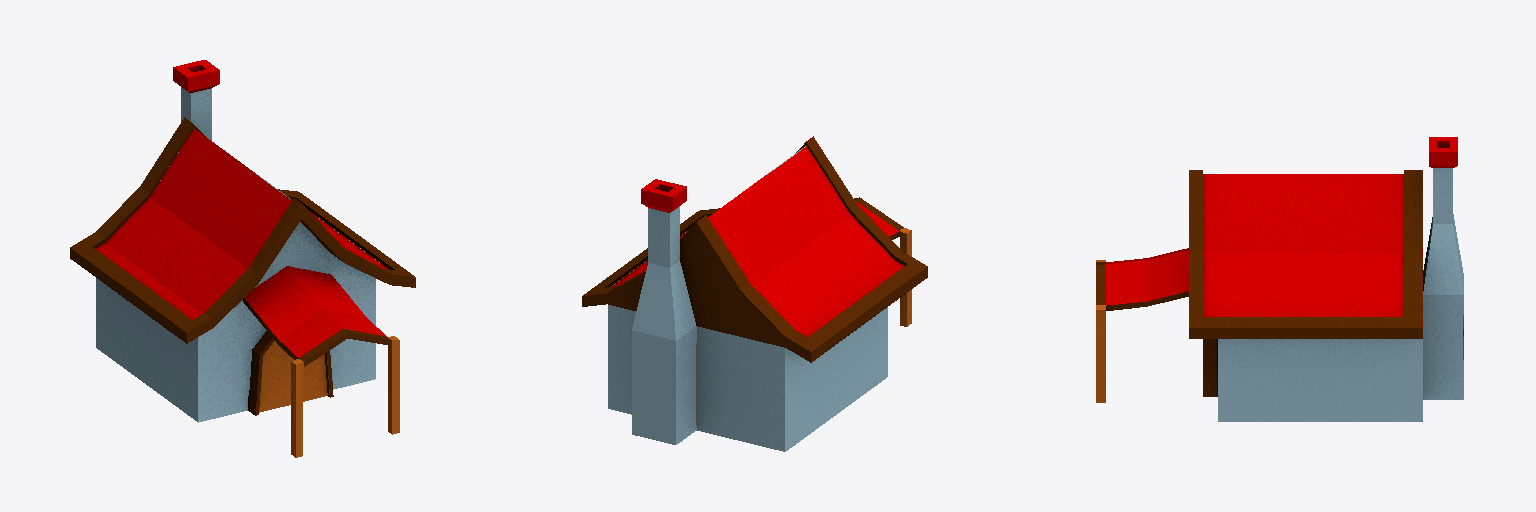
The picture shows the model from 3 angles: view 1: azimuth 30°, elevation 25°; view 2: azimuth 150°, elevation 25°; view 3: azimuth 270°, elevation 25°; orthographic projection.
Visible parts, largest first — view 1: Cube_Cube.001; view 2: Cube_Cube.001; view 3: Cube_Cube.001.
Part boxes in pixels (bbox=[...]): Cube_Cube.001: bbox=[70, 60, 415, 457]; Cube_Cube.001: bbox=[582, 136, 927, 451]; Cube_Cube.001: bbox=[1096, 137, 1463, 421].
Size of the model in its own units: 2.58 by 2.63 by 3.58.
1 materials, 1 textured.